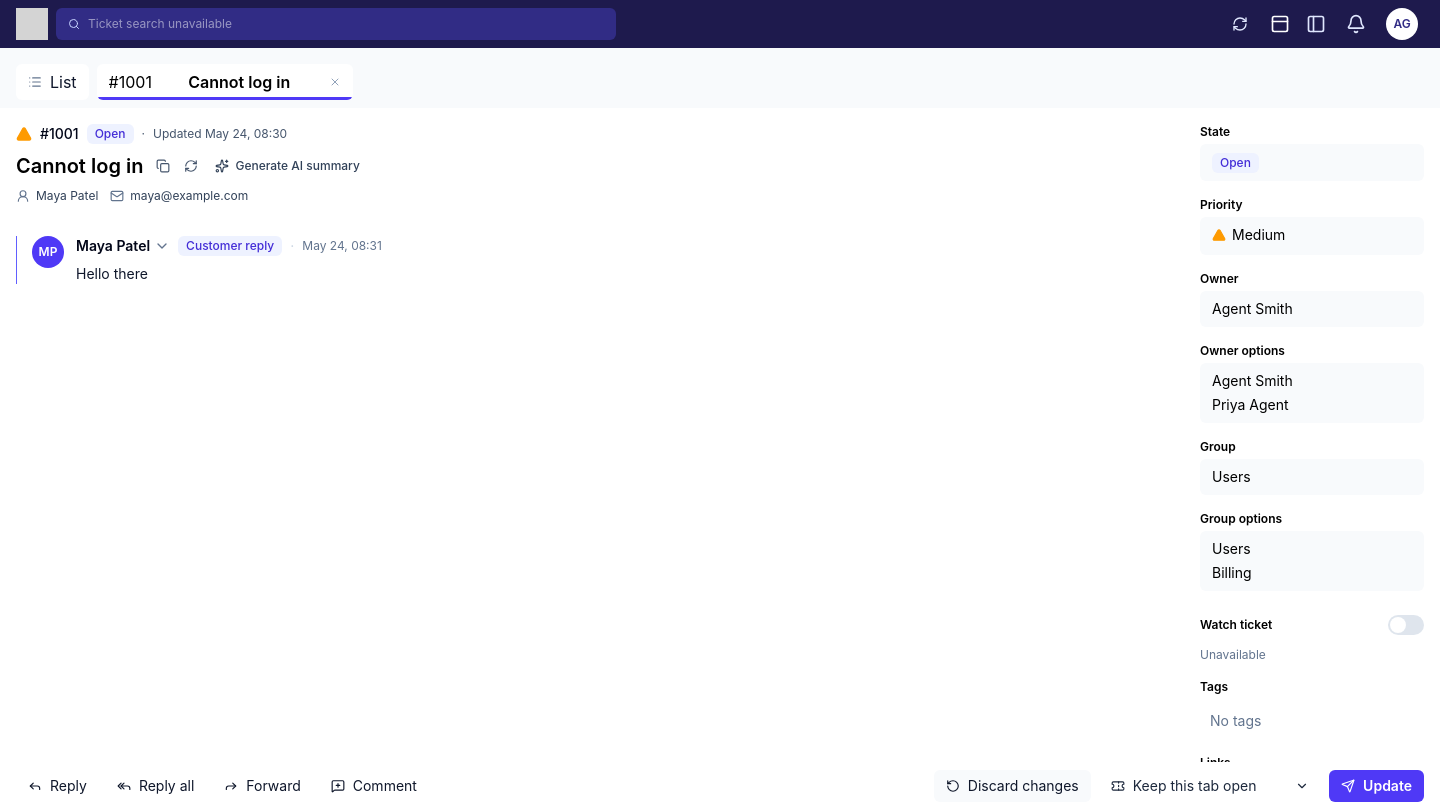
TicketWorkspace local tabs › appends imported tabs without changing the active ticket
Click the button named "Sync tabs" at (1240, 24), box [1224,8,1256,40]
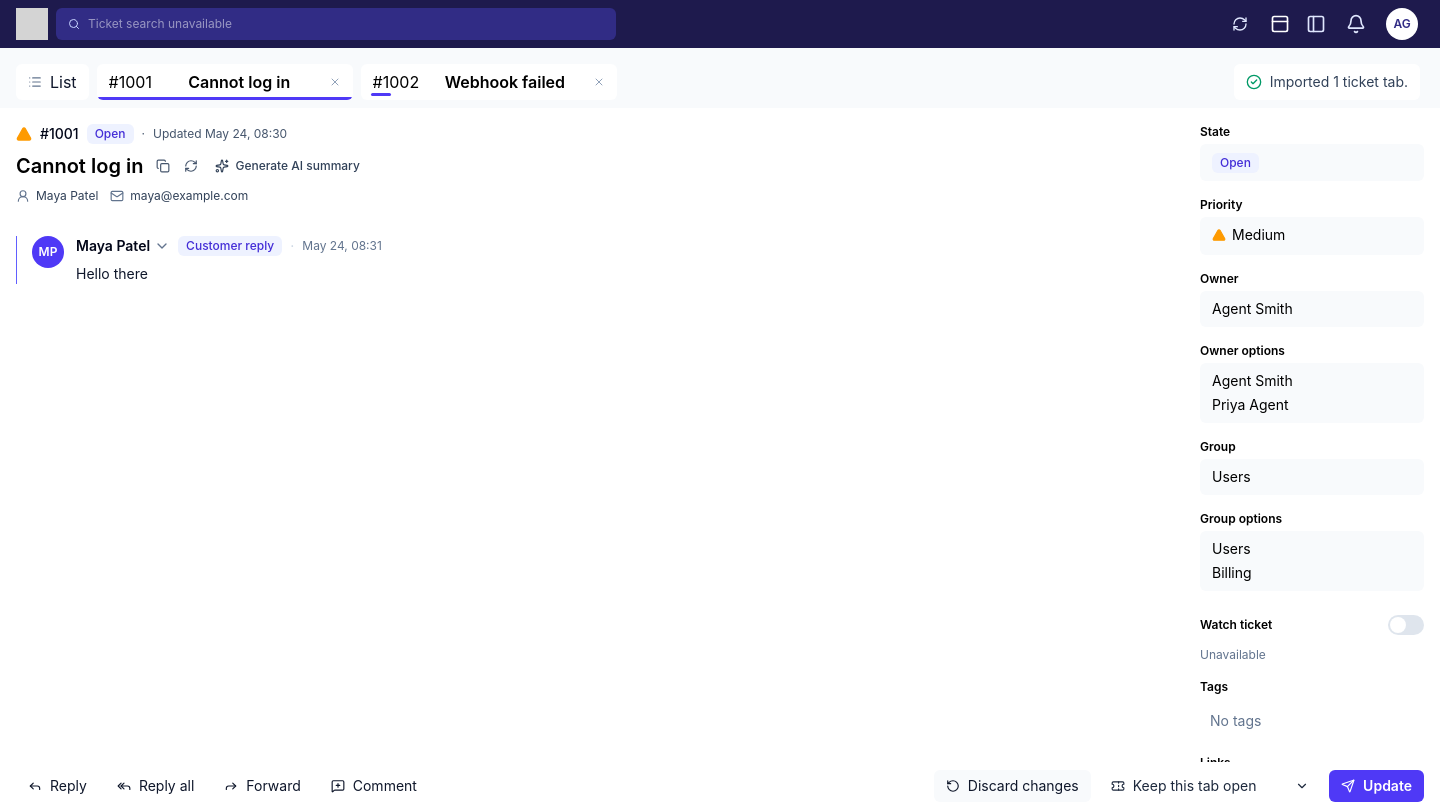
Check: the tab "#1002 Webhook failed" is shown, box [373,70,587,94]
